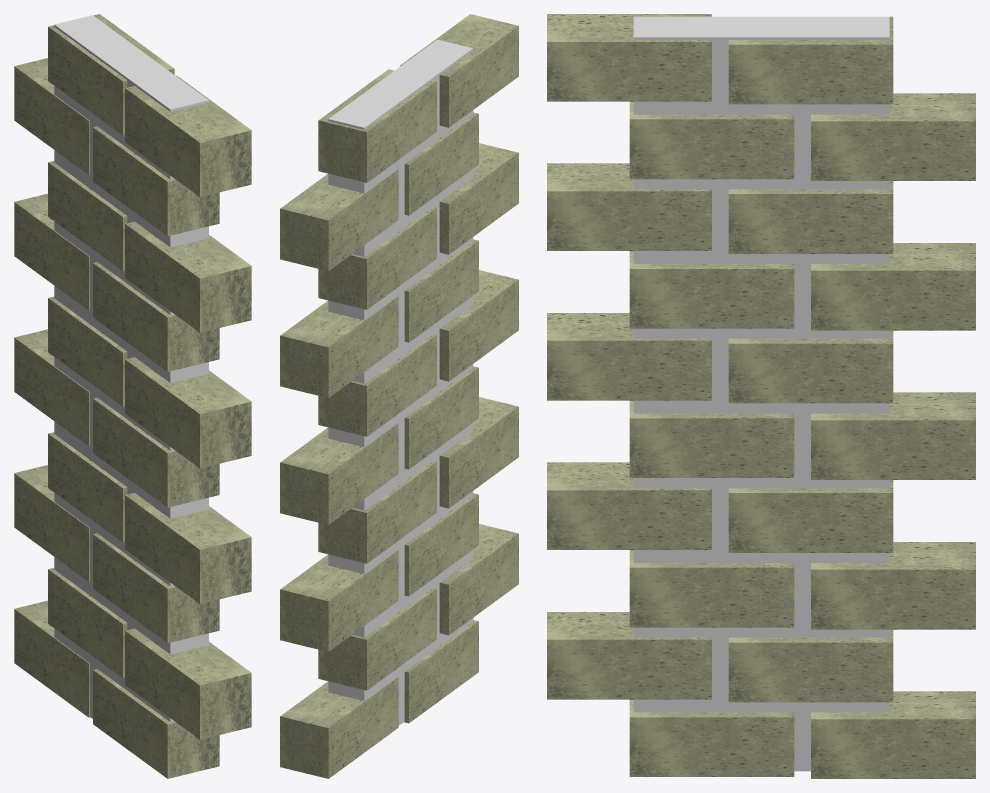
Rendered from BrickWallSmallWithLargeBricks.glb.
3 renders of one model, left to right at view 1: azimuth 30°, elevation 25°; view 2: azimuth 150°, elevation 25°; view 3: azimuth 270°, elevation 25°, orthographic. The views are drawn at different scales.
Visible parts, largest first — view 1: BrickWallSmallWithLargeBricks; view 2: BrickWallSmallWithLargeBricks; view 3: BrickWallSmallWithLargeBricks.
Part boxes in pixels (x1,y1,x2,y2): BrickWallSmallWithLargeBricks: (14,14,251,778); BrickWallSmallWithLargeBricks: (280,14,518,778); BrickWallSmallWithLargeBricks: (547,14,975,778).
Bounding box in the file's own units: 0.4677 × 4.92 × 2.6.
Materials: 2 (1 with a texture image).
